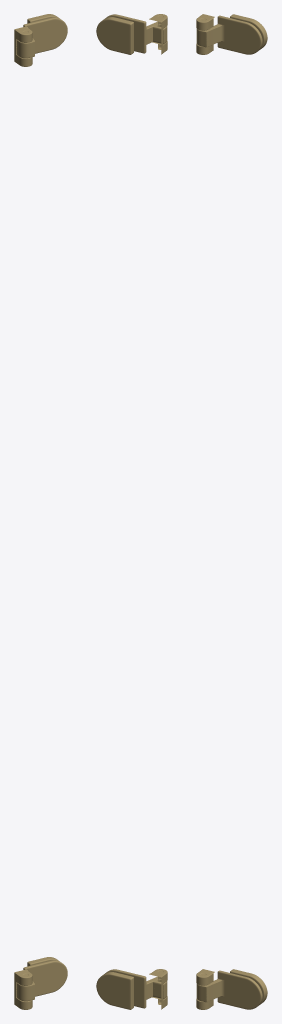
File: Roundy_Hinged_Pronks.glb
3 views of the same model, side by side, from view 1: azimuth 30°, elevation 25°; view 2: azimuth 150°, elevation 25°; view 3: azimuth 330°, elevation 25° (orthographic).
Parts seen in each view (by area): view 1: Object705436635 (×2), Object705436638 (×2); view 2: Object705436635 (×2), Object705436638 (×2); view 3: Object705436635 (×2), Object705436638 (×2).
Boxes of the visible parts, left/top/right/bottom form: Object705436635 (×2): left=17, top=14, right=67, bottom=1001; Object705436638 (×2): left=14, top=26, right=32, bottom=1009; Object705436635 (×2): left=96, top=14, right=167, bottom=1009; Object705436638 (×2): left=149, top=14, right=167, bottom=1009; Object705436635 (×2): left=196, top=14, right=267, bottom=1009; Object705436638 (×2): left=196, top=14, right=214, bottom=1009.
Bounding box in the file's own units: 0.0825 × 1.38 × 0.0447.
